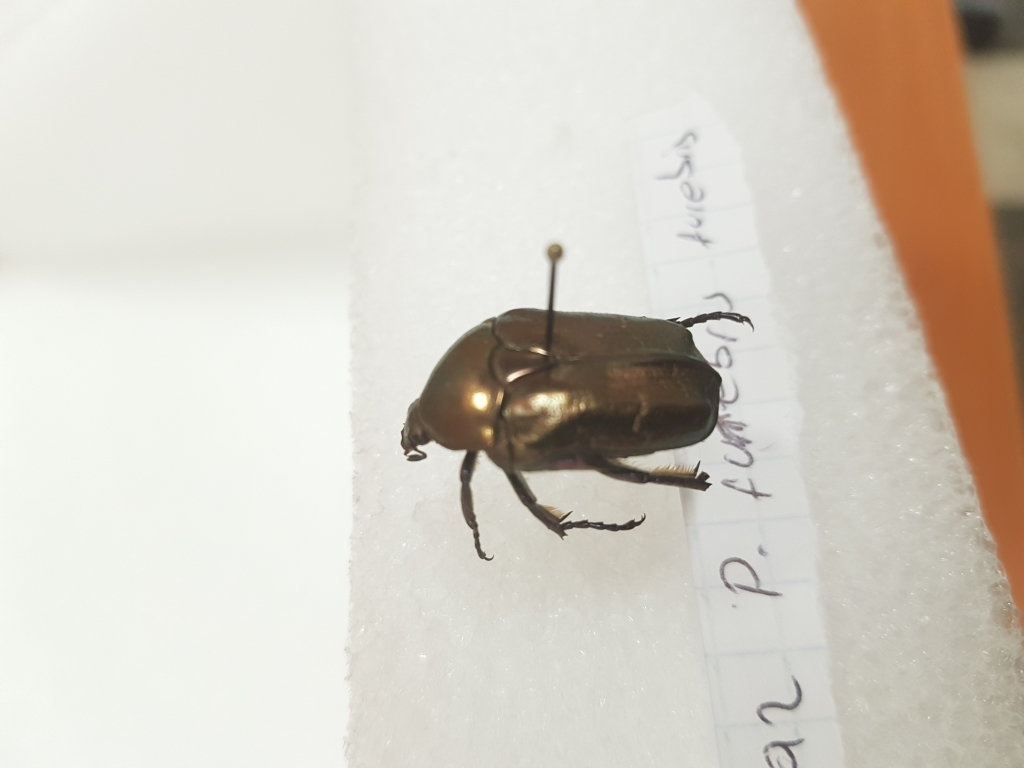Protaetia_funebris: (392, 297, 737, 551)
